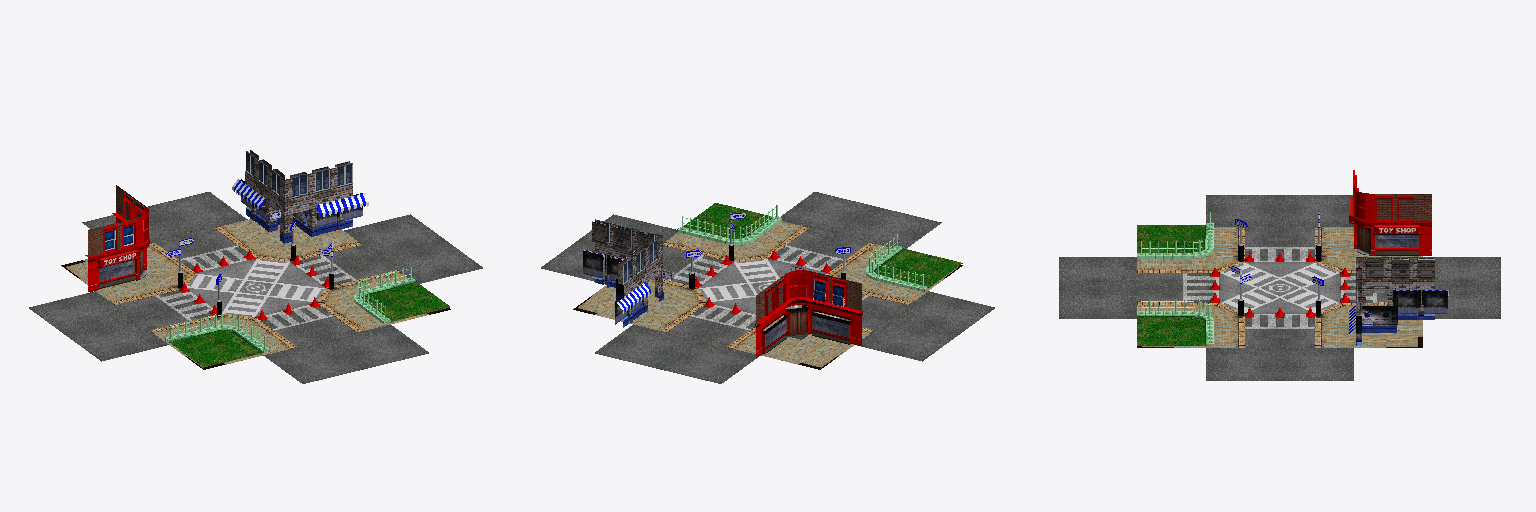
The picture shows the model from 3 angles: view 1: azimuth 30°, elevation 25°; view 2: azimuth 150°, elevation 25°; view 3: azimuth 270°, elevation 25°; orthographic projection.
Parts seen in each view (by area): view 1: Mesh_0023, Mesh_00252, Mesh_00262, Mesh_00242, Mesh_00422, Mesh_0039, Mesh_00472, Mesh_00432, Mesh_00122; view 2: Mesh_0023, Mesh_00252, Mesh_0039, Mesh_00262, Mesh_00422, Mesh_00242, Mesh_00432; view 3: Mesh_0023, Mesh_00252, Mesh_00262, Mesh_00242, Mesh_0039, Mesh_00422, Mesh_00432, Mesh_00122.
Part boxes in pixels (left/top/right/bottom): Mesh_0023: left=29, top=192, right=482, bottom=383; Mesh_00252: left=61, top=219, right=450, bottom=369; Mesh_00262: left=166, top=150, right=362, bottom=316; Mesh_00242: left=176, top=254, right=335, bottom=321; Mesh_00422: left=165, top=278, right=449, bottom=367; Mesh_0039: left=85, top=185, right=149, bottom=291; Mesh_00472: left=232, top=179, right=368, bottom=217; Mesh_00432: left=170, top=267, right=411, bottom=348; Mesh_00122: left=179, top=250, right=328, bottom=319; Mesh_0023: left=541, top=192, right=994, bottom=383; Mesh_00252: left=573, top=221, right=962, bottom=369; Mesh_0039: left=755, top=270, right=862, bottom=357; Mesh_00262: left=583, top=213, right=850, bottom=327; Mesh_00422: left=677, top=203, right=962, bottom=291; Mesh_00242: left=688, top=254, right=834, bottom=320; Mesh_00432: left=682, top=205, right=923, bottom=287; Mesh_0023: left=1059, top=195, right=1500, bottom=380; Mesh_00252: left=1137, top=227, right=1422, bottom=347; Mesh_00262: left=1229, top=213, right=1447, bottom=345; Mesh_00242: left=1206, top=257, right=1353, bottom=318; Mesh_0039: left=1349, top=170, right=1431, bottom=255; Mesh_00422: left=1137, top=223, right=1213, bottom=345; Mesh_00432: left=1141, top=212, right=1210, bottom=342; Mesh_00122: left=1211, top=252, right=1348, bottom=316.
Size of the model in its own units: 51000 by 8161 by 51000.
9 materials, 7 textured.